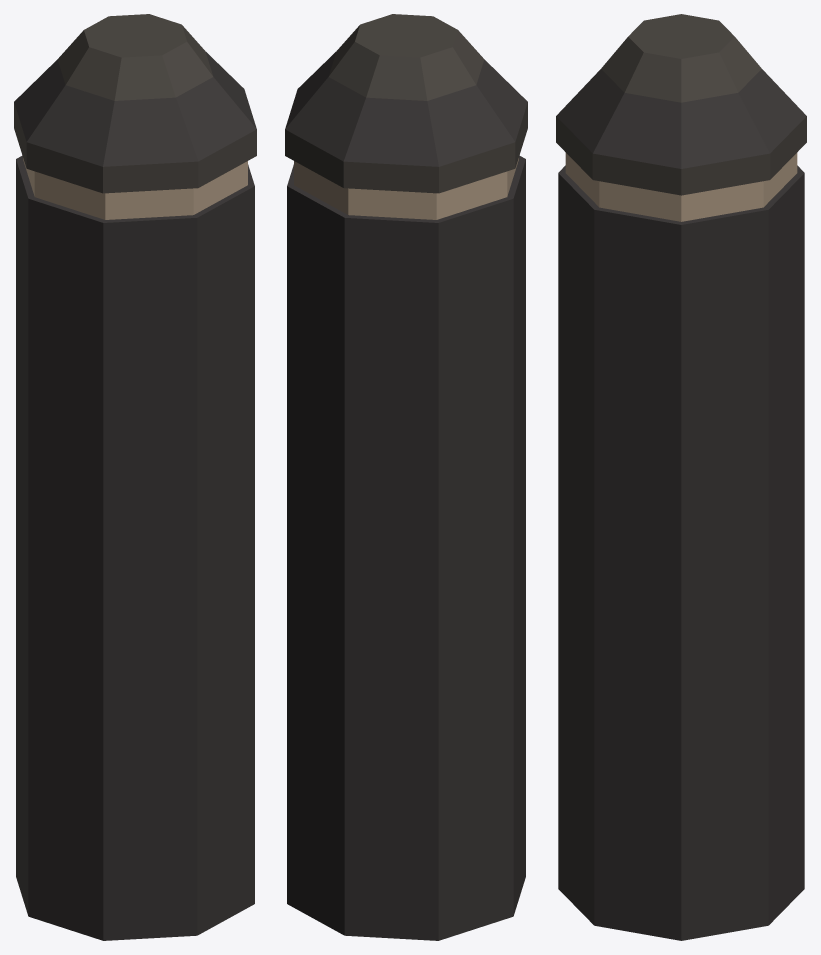
The model's file is bollard.glb.
3 renders of one model, left to right at view 1: azimuth 30°, elevation 25°; view 2: azimuth 150°, elevation 25°; view 3: azimuth 270°, elevation 25°, orthographic.
Parts seen in each view (by area): view 1: body; view 2: body; view 3: body.
Part boxes in pixels (left/top/right/bottom): body: left=14, top=14, right=256, bottom=940; body: left=285, top=14, right=527, bottom=940; body: left=556, top=14, right=806, bottom=940.
Size of the model in its own units: 0.24 by 0.9 by 0.24.
